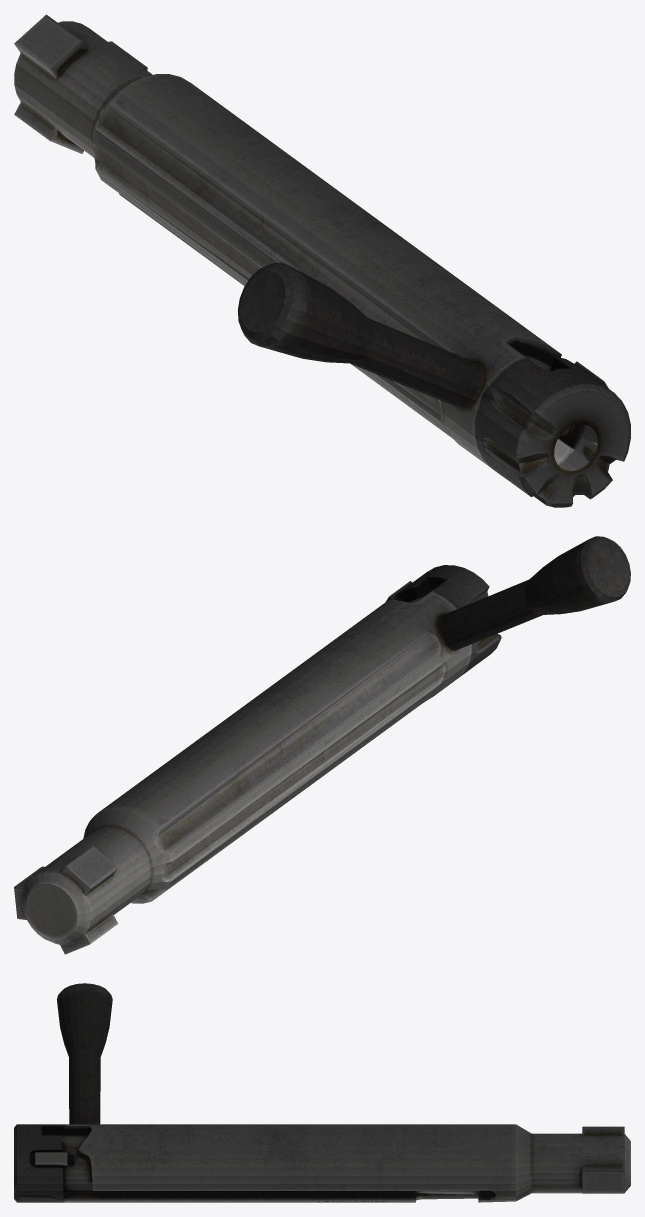
3 renders of one model, top to bottom at view 1: azimuth 30°, elevation 25°; view 2: azimuth 150°, elevation 25°; view 3: azimuth 270°, elevation 25°, orthographic. The views are drawn at different scales.
Visible parts, largest first — view 1: TW_588892092459774ac91d4b11_PZ_Import; view 2: TW_588892092459774ac91d4b11_PZ_Import; view 3: TW_588892092459774ac91d4b11_PZ_Import.
Boxes of the visible parts, bbox=[...] form: TW_588892092459774ac91d4b11_PZ_Import: bbox=[14, 14, 630, 507]; TW_588892092459774ac91d4b11_PZ_Import: bbox=[14, 536, 630, 954]; TW_588892092459774ac91d4b11_PZ_Import: bbox=[14, 983, 630, 1202].
Size of the model in its own units: 0.0412 by 0.1147 by 0.0305.
Materials: 1 (1 with a texture image).
